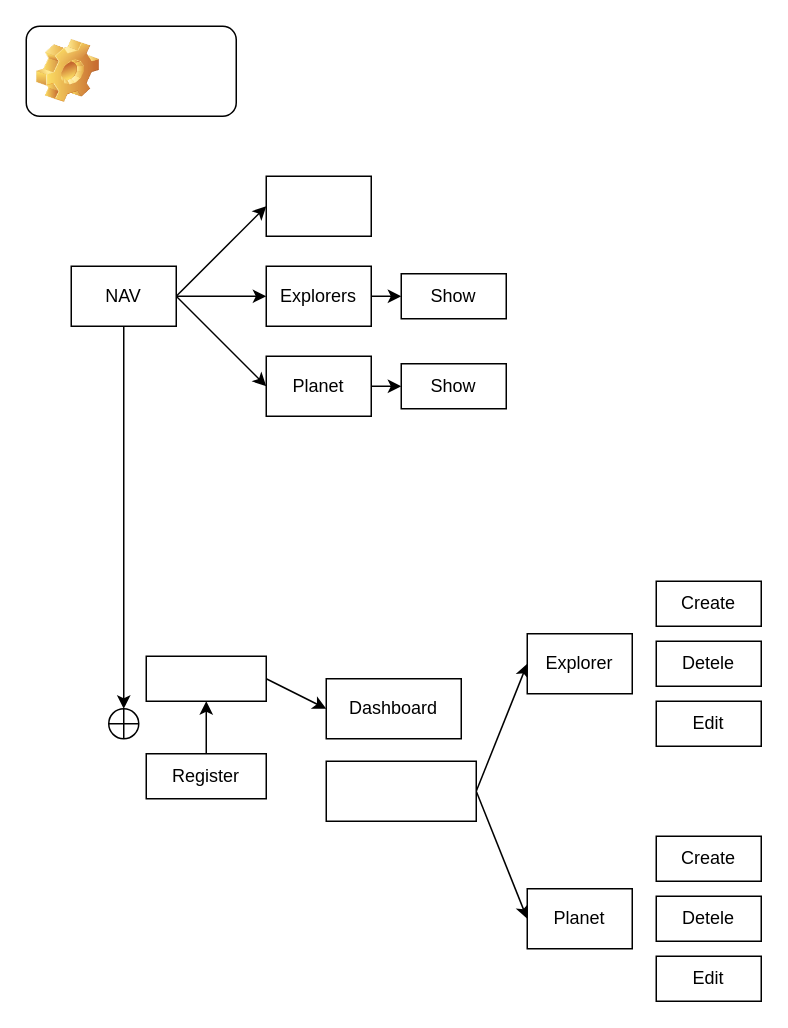
Image size: 788x1028. Some labels were removed from this diagram. The centre of each missing label's shape, as x and y in pixels:
"APP" goes at (x=130, y=70).
"Index" goes at (x=318, y=205).
"Login" goes at (x=205, y=678).
"Nav Dashboard" goes at (x=400, y=790).
